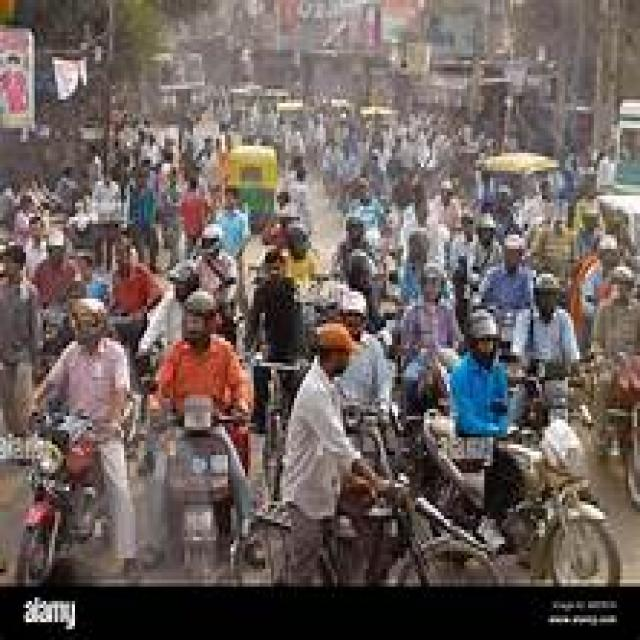Auto: (227, 148, 275, 214)
Two Wheeler: (416, 378, 619, 584), (121, 396, 254, 579), (0, 401, 110, 584)
